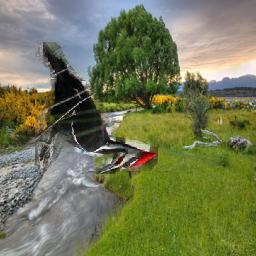Woodpecker: (36, 42, 159, 174)
